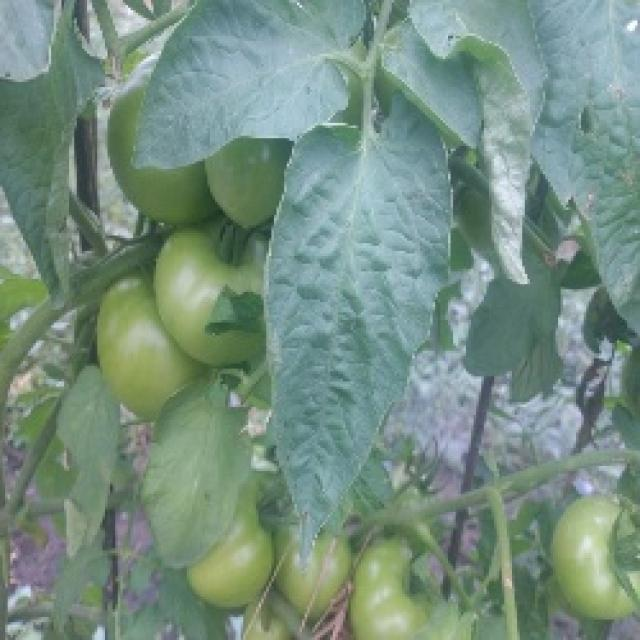tomato: (156, 217, 264, 364), (98, 278, 194, 411), (546, 490, 640, 623), (349, 541, 433, 640), (242, 469, 302, 598), (213, 139, 288, 226), (282, 541, 349, 625), (134, 162, 211, 235), (199, 544, 258, 612), (114, 94, 147, 188)
